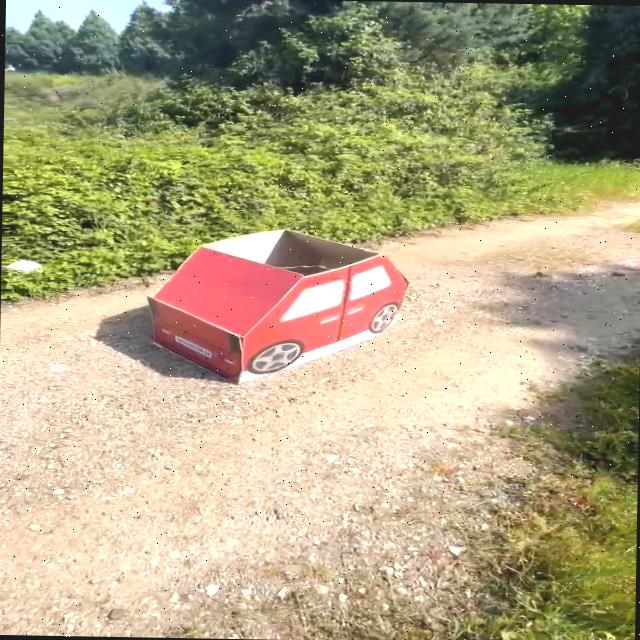red_car: (136, 220, 452, 411)
